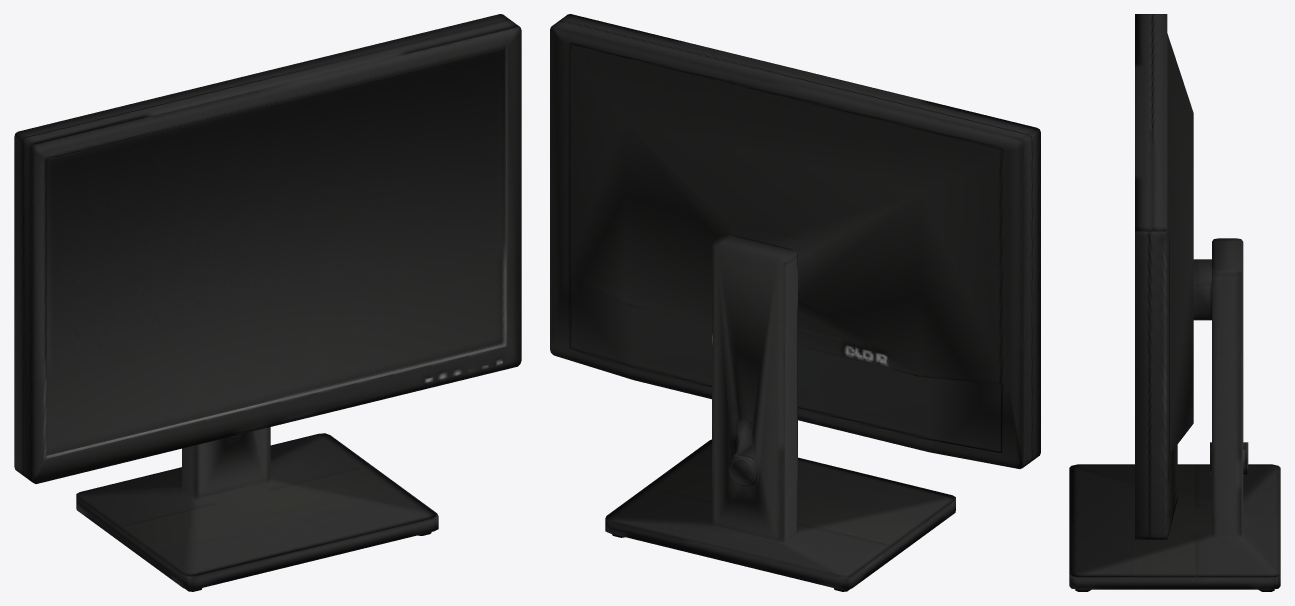
File: ENV_Monitor_v001.fbx
The picture shows the model from 3 angles, left to right: view 1: azimuth 30°, elevation 25°; view 2: azimuth 150°, elevation 25°; view 3: azimuth 270°, elevation 25°; orthographic projection. The views are drawn at different scales.
Parts seen in each view (by area): view 1: tripo_node_8497e566-3869-4056-829e-9f46a578a77d; view 2: tripo_node_8497e566-3869-4056-829e-9f46a578a77d; view 3: tripo_node_8497e566-3869-4056-829e-9f46a578a77d.
Boxes of the visible parts, x1,y1,x2,y2 form: tripo_node_8497e566-3869-4056-829e-9f46a578a77d: (14,14,521,591); tripo_node_8497e566-3869-4056-829e-9f46a578a77d: (550,14,1040,591); tripo_node_8497e566-3869-4056-829e-9f46a578a77d: (1069,14,1280,591).
Bounding box in the file's own units: 99.8 × 88.48 × 40.82.
1 material, 1 textured.
